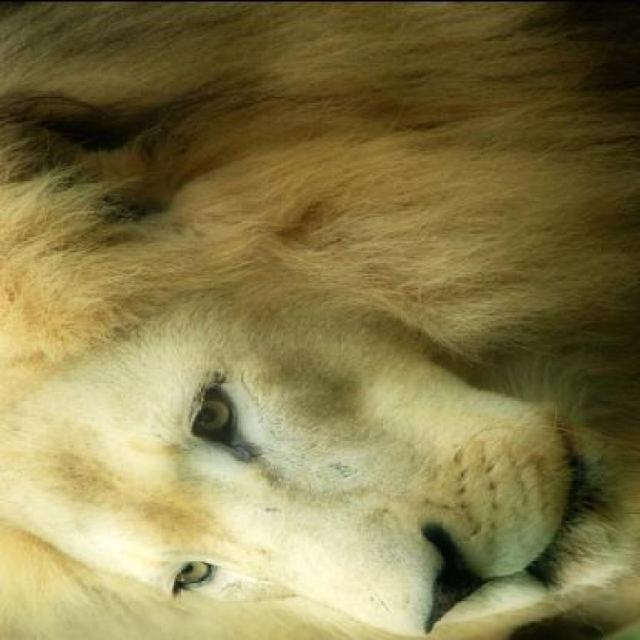Lion: (12, 84, 638, 634)
